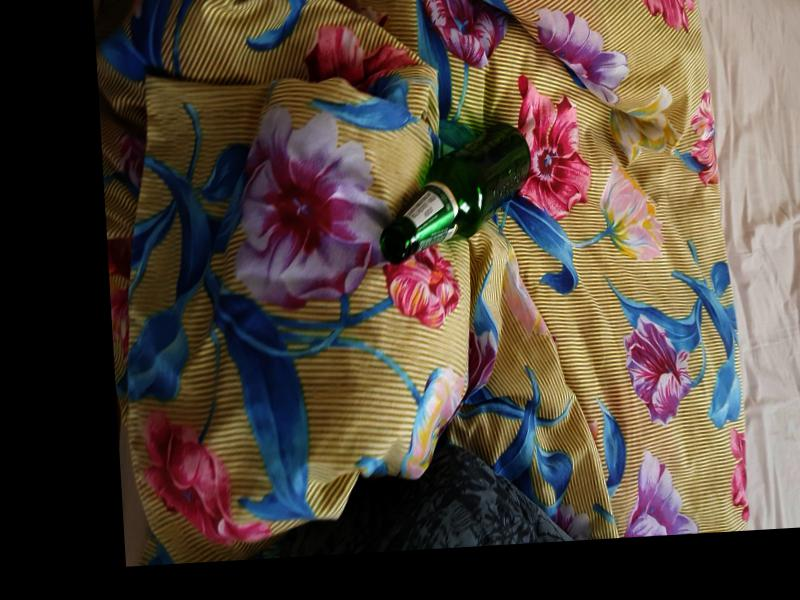Beer: (372, 121, 534, 261)
